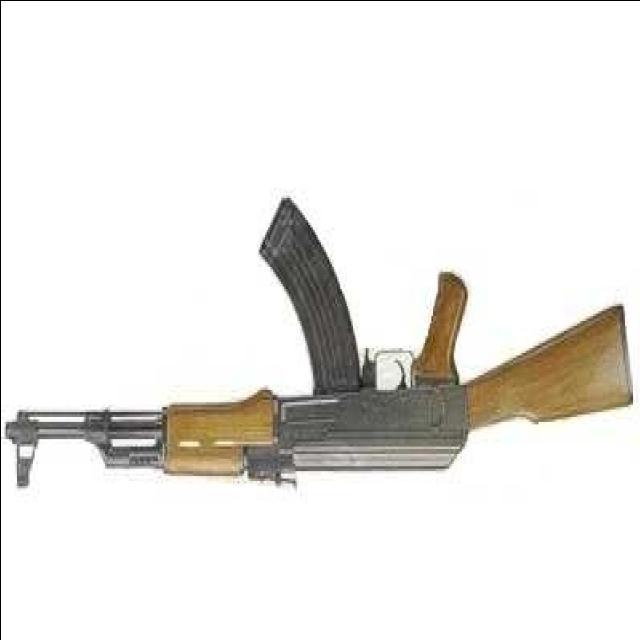heavyweapon: (6, 206, 632, 516)
